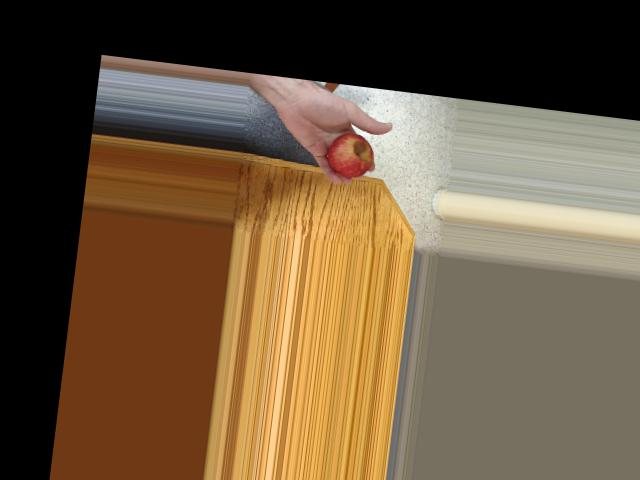apple: (320, 126, 377, 180)
